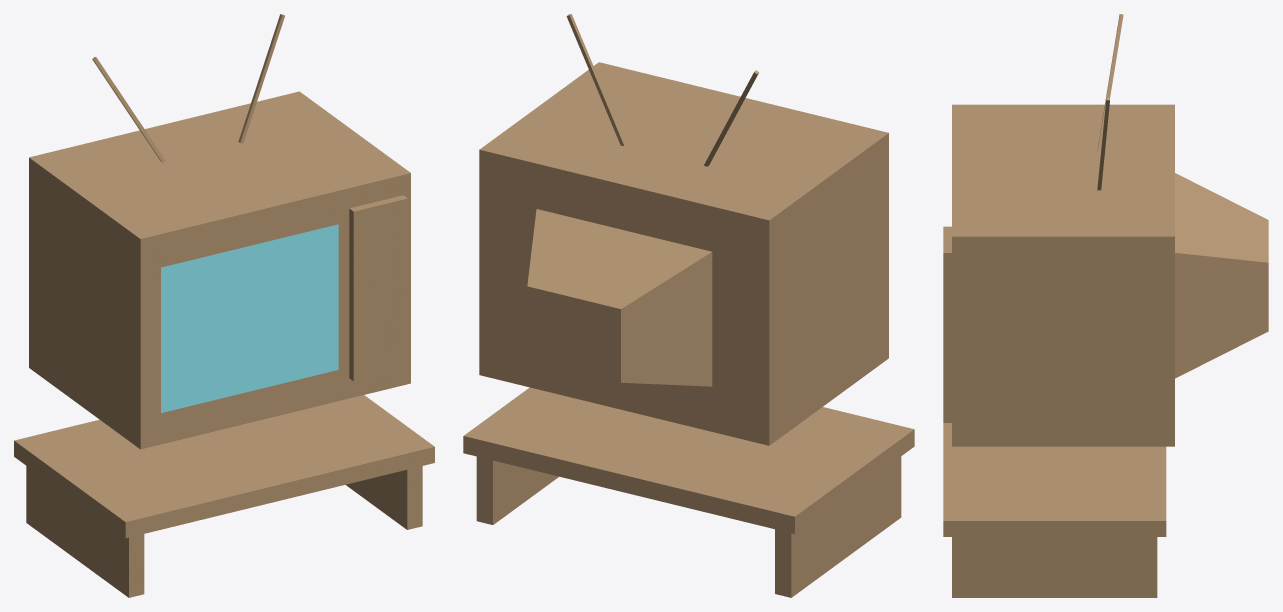
File: tv_old.glb
The picture shows the model from 3 angles, left to right: view 1: azimuth 30°, elevation 25°; view 2: azimuth 150°, elevation 25°; view 3: azimuth 270°, elevation 25°; orthographic projection. The views are drawn at different scales.
Visible parts, largest first — view 1: tv_old, screen; view 2: tv_old; view 3: tv_old.
Boxes of the visible parts, x1,y1,x2,y2 form: tv_old: (14, 14, 434, 597); screen: (161, 224, 338, 412); tv_old: (463, 14, 914, 597); tv_old: (943, 14, 1268, 597).
Bounding box in the file's own units: 0.8 × 1.16 × 0.73.
